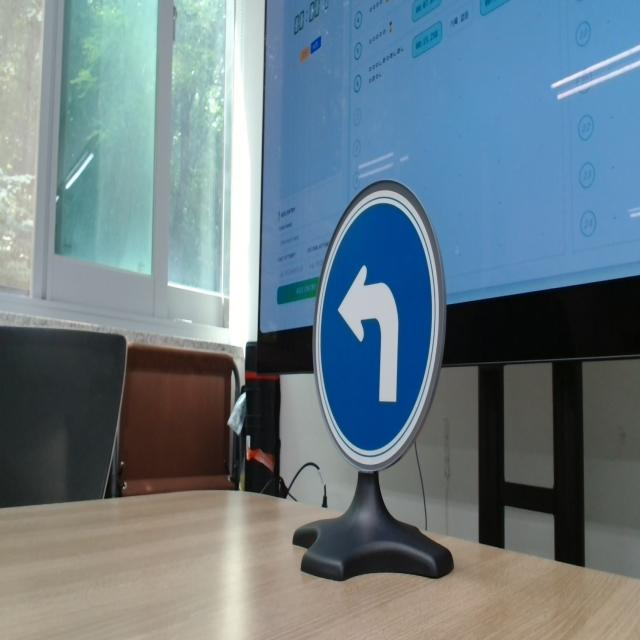left_direction: (308, 178, 448, 474)
